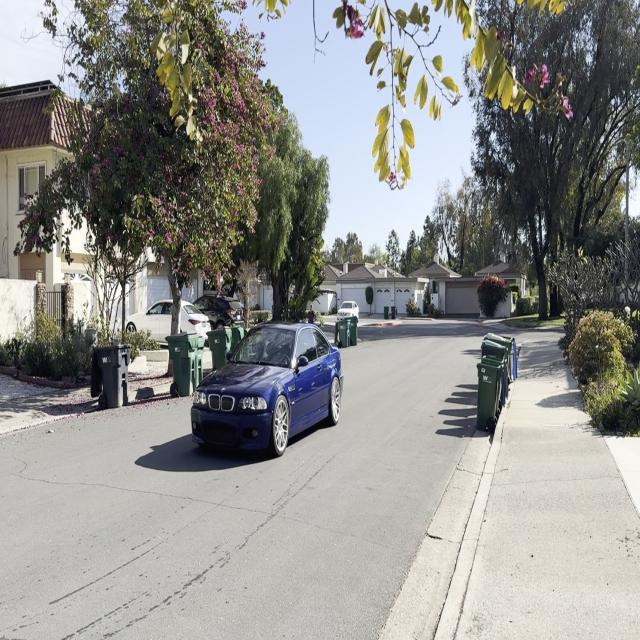Carbeetle: (187, 312, 348, 472)
